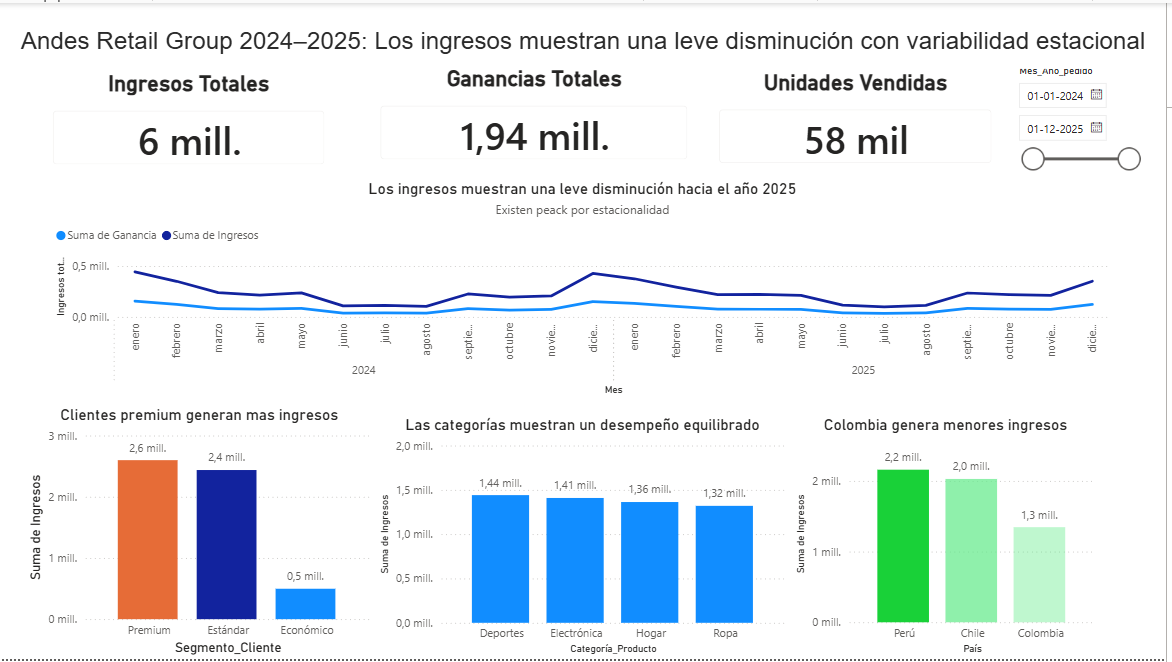

The dashboard page shown, as its layout file describes it:
{"tool":"powerbi","page":{"name":"Overview","canvas":[1280,720],"ordinal":0},"visuals":[{"type":"cardVisual","title":"Ingresos  Totales","fields":{"Data":["Sum(Andes_Retail_Group_2024_2025.Ingresos)"]},"box":[41.2,74.1,332.1,120.8],"z":0},{"type":"cardVisual","title":"Ganancias Totales","fields":{"Data":["Sum(Andes_Retail_Group_2024_2025.Ganancia)"]},"box":[400.7,68.6,371.9,120.8],"z":1000},{"type":"cardVisual","title":"Unidades Vendidas","fields":{"Data":["Sum(Andes_Retail_Group_2024_2025.Unidades_Vendidas)"]},"box":[772.6,72.7,333.4,120.8],"z":2000},{"type":"slicer","fields":{"Values":["Andes_Retail_Group_2024_2025.Mes_Año_pedido"]},"box":[1106,63.1,155.1,130.4],"z":3000},{"type":"lineChart","title":"Los ingresos muestran una leve disminución hacia el año 2025","fields":{"Y":["Sum(Andes_Retail_Group_2024_2025.Ganancia)","Sum(Andes_Retail_Group_2024_2025.Ingresos)"],"Category":["Andes_Retail_Group_2024_2025.Mes_Año_pedido.Variación.Jerarquía de fechas.Año","Andes_Retail_Group_2024_2025.Mes_Año_pedido.Variación.Jerarquía de fechas.Mes"]},"box":[56.3,193.5,1166.4,241.5],"z":4000},{"type":"columnChart","title":"Clientes premium generan mas ingresos","fields":{"Y":["Sum(Andes_Retail_Group_2024_2025.Ingresos)"],"Category":["Andes_Retail_Group_2024_2025.Segmento_Cliente"]},"box":[26.1,441.9,385.6,278.6],"z":5000},{"type":"columnChart","title":"Las categorías muestran un desempeño equilibrado","fields":{"Category":["Andes_Retail_Group_2024_2025.Categoría_Producto"],"Y":["Sum(Andes_Retail_Group_2024_2025.Ingresos)"]},"box":[411.7,452.8,455.6,267.6],"z":6000},{"type":"columnChart","title":"Colombia genera menores ingresos","fields":{"Category":["Andes_Retail_Group_2024_2025.País"],"Y":["Sum(Andes_Retail_Group_2024_2025.Ingresos)"]},"box":[868,453,339,267],"z":7000},{"type":"textbox","box":[0,22,1280.3,50.8],"z":8000}]}

Visuals, with their boxes in screenshot pixels (x1, y1, x2, y2), scaled from the page's 1280x720 canvas onto the 1172x662 screenshot:
"Ingresos  Totales" cardVisual: rect(38, 68, 342, 179)
"Ganancias Totales" cardVisual: rect(367, 63, 707, 174)
"Unidades Vendidas" cardVisual: rect(707, 67, 1013, 178)
slicer - Andes_Retail_Group_2024_2025.Mes_Año_pedido: rect(1013, 58, 1155, 178)
"Los ingresos muestran una leve disminución hacia el año 2025" lineChart: rect(52, 178, 1120, 400)
"Clientes premium generan mas ingresos" columnChart: rect(24, 406, 377, 661)
"Las categorías muestran un desempeño equilibrado" columnChart: rect(377, 416, 794, 661)
"Colombia genera menores ingresos" columnChart: rect(795, 417, 1105, 661)
textbox: rect(0, 20, 1171, 67)
